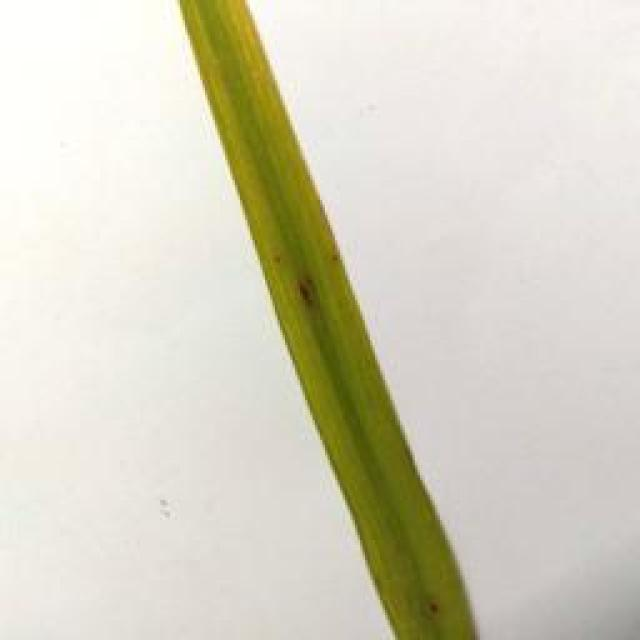Brown_Spot: (295, 282, 329, 310), (420, 584, 444, 613), (266, 253, 290, 272), (325, 249, 341, 273)
